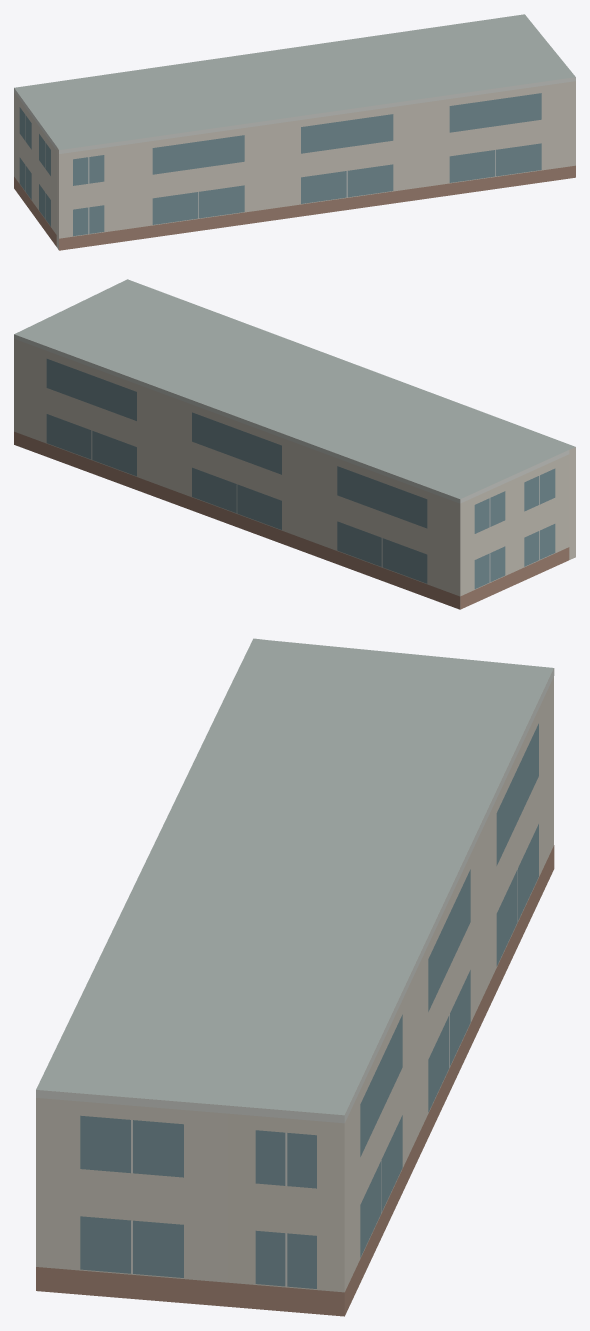
Rendered from survey-upis-32617464.glb.
3 renders of one model, top to bottom at view 1: azimuth 30°, elevation 25°; view 2: azimuth 150°, elevation 25°; view 3: azimuth 270°, elevation 25°, orthographic. The views are drawn at different scales.
Parts seen in each view (by area): view 1: survey-upis-32617464.tmp; view 2: survey-upis-32617464.tmp; view 3: survey-upis-32617464.tmp.
Part boxes in pixels (<box>): survey-upis-32617464.tmp: <box>14,14,575,250</box>; survey-upis-32617464.tmp: <box>14,279,575,609</box>; survey-upis-32617464.tmp: <box>36,638,554,1316</box>.
Size of the model in its own units: 31.03 by 6.1 by 14.25.
